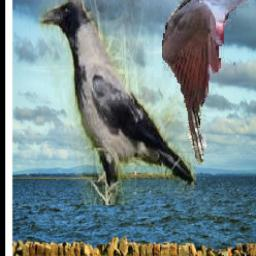Crow: (39, 1, 197, 206)
Cuckoo: (162, 0, 256, 165)
